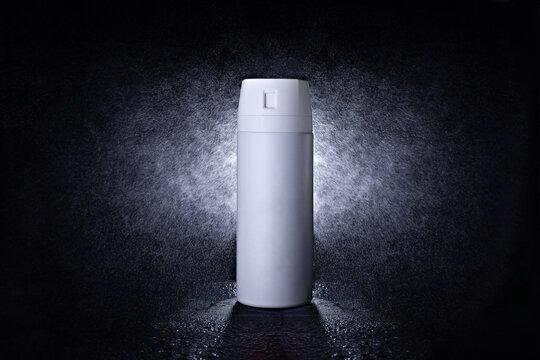gym bottle: (232, 74, 318, 310)
